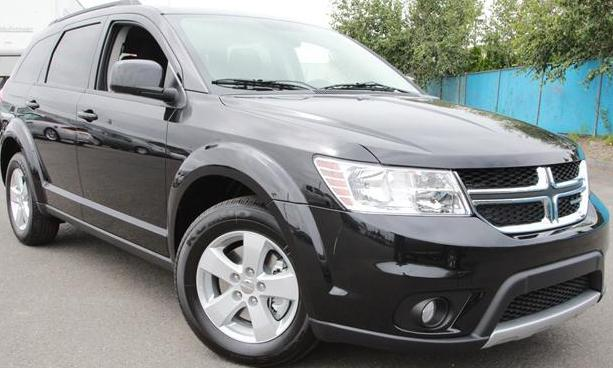front_view: (292, 125, 607, 339)
headlight: (320, 144, 472, 228)
side_glass: (17, 24, 198, 104)
